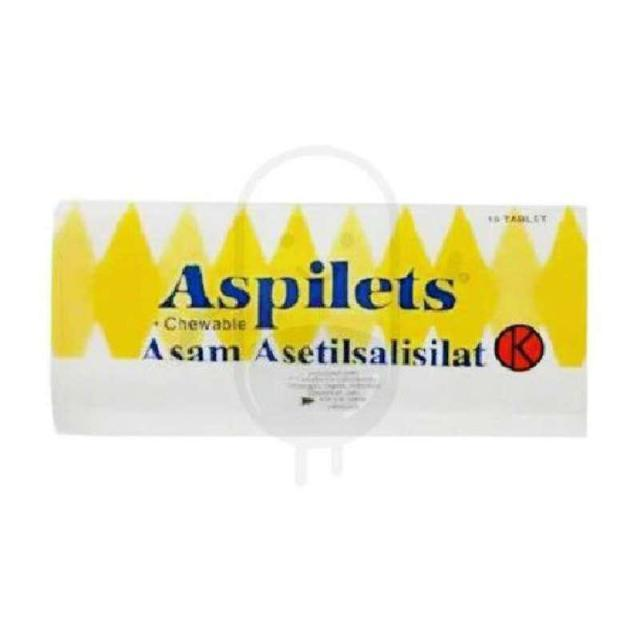drug-name: (152, 258, 463, 317)
